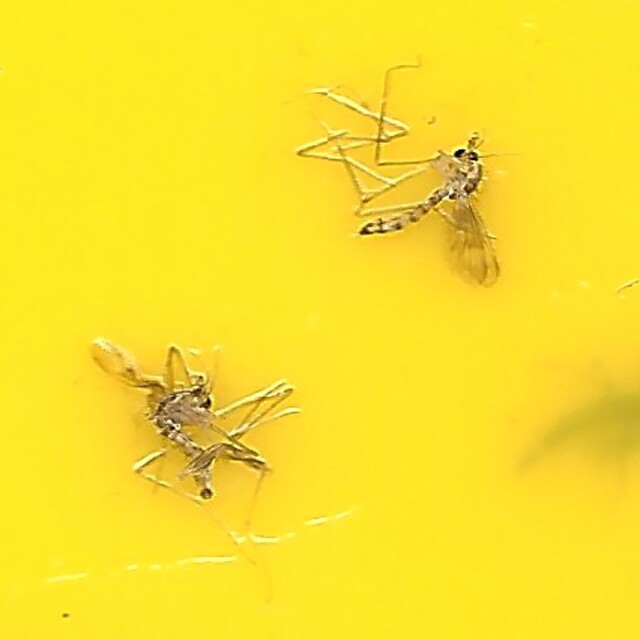Nematocera: (364, 136, 490, 239), (150, 382, 219, 504)
